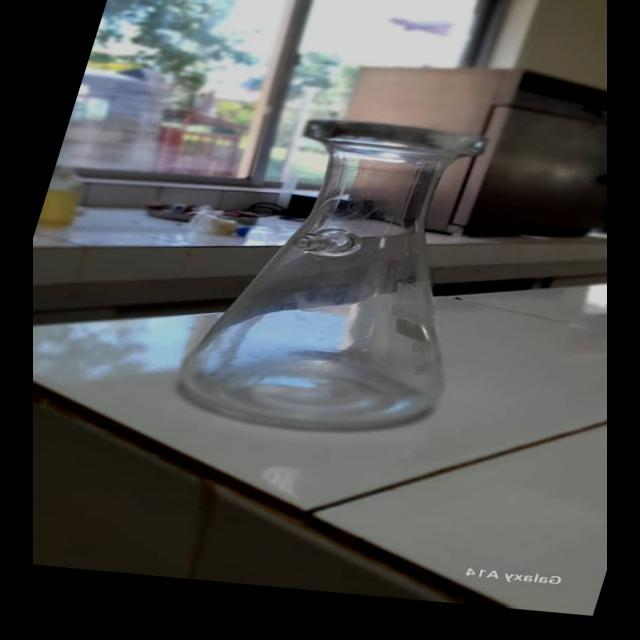Filtration Flask: (165, 100, 517, 439)
